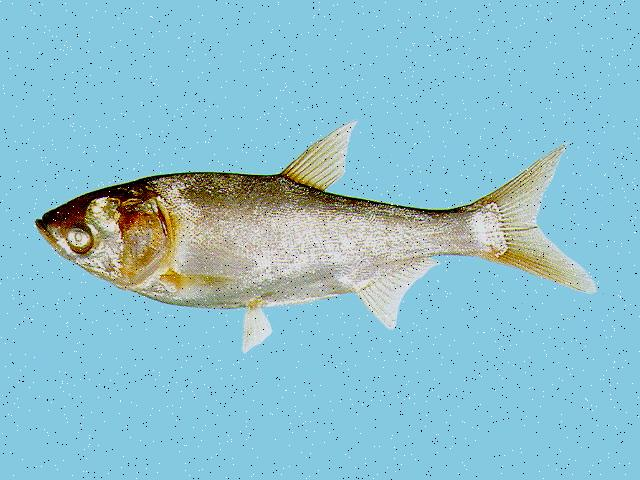Mulut: (23, 194, 73, 262)
Sirip Anal: (346, 250, 452, 332)
Sirip Dada: (154, 258, 254, 300)
Sirip Ekor: (478, 129, 600, 301)
Sirip Perut: (232, 290, 286, 362)
Sirip Punggung: (275, 116, 365, 198)
